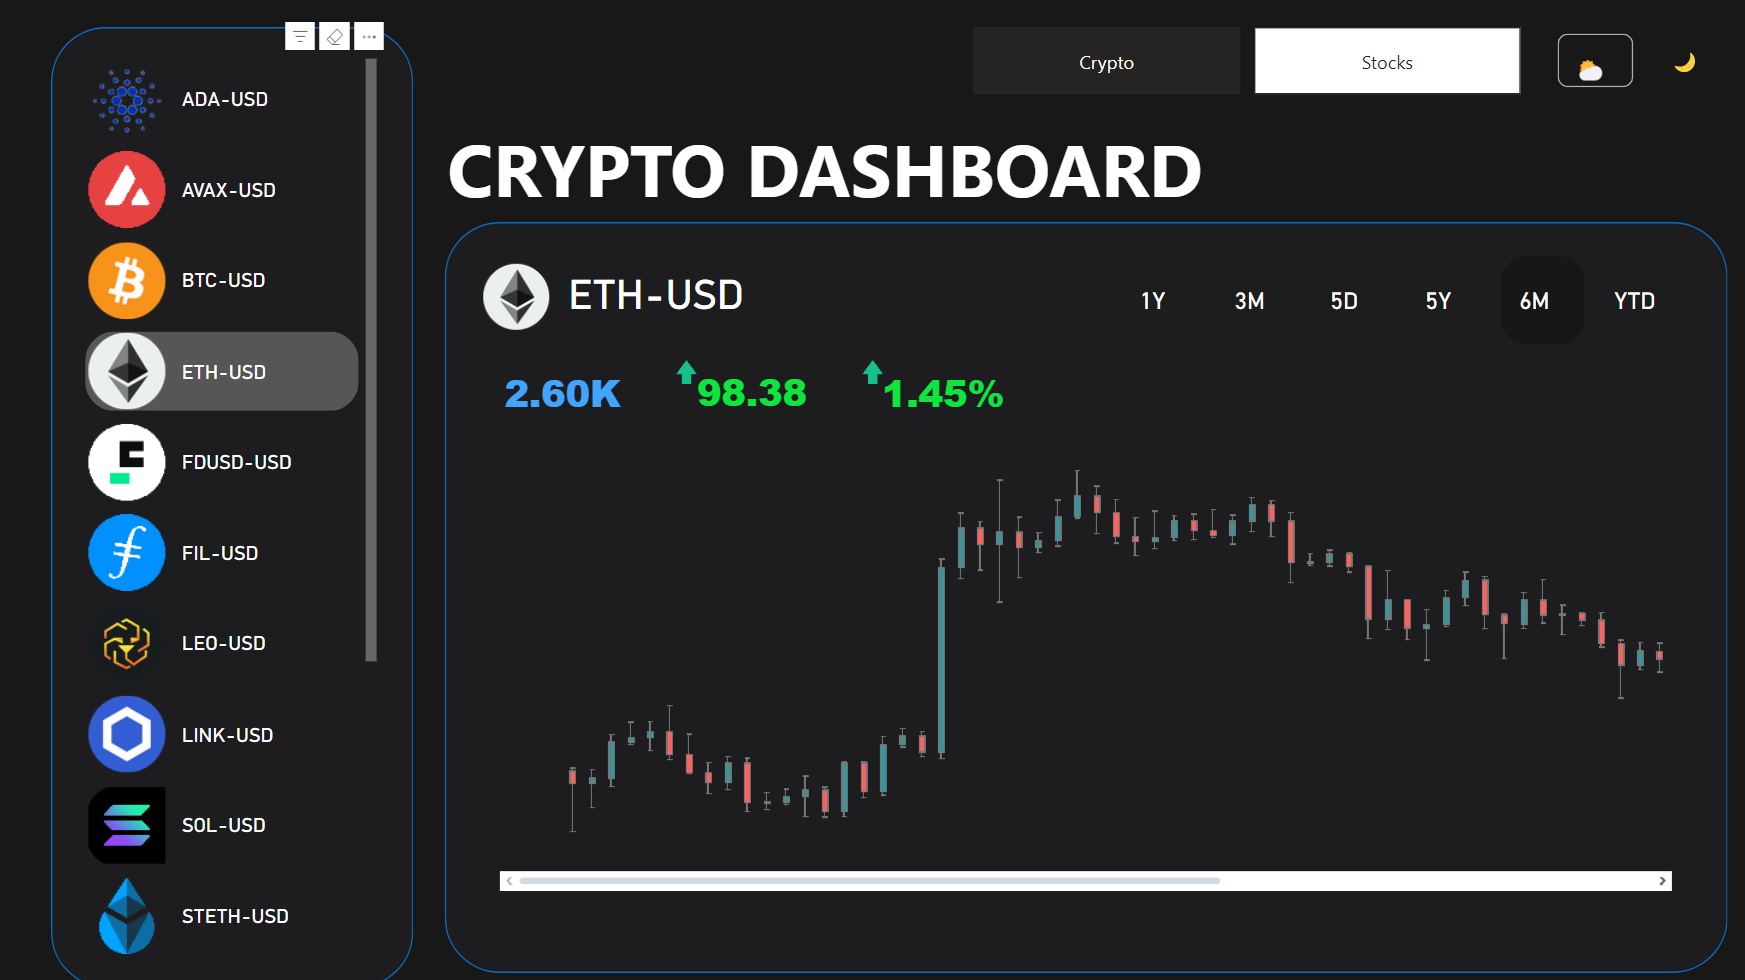

The dashboard page shown, as its layout file describes it:
{"tool":"powerbi","page":{"name":"Crypto","canvas":[1280,720],"ordinal":0},"visuals":[{"type":"shape","box":[0,0,1280.3,720.4],"z":0},{"type":"shape","box":[326.6,163.3,933.1,546.1],"z":1000},{"type":"shape","box":[39.8,22,263.5,698.5],"z":2000},{"type":"advancedSlicerVisual","fields":{"Values":["Color Codes.Label"]},"box":[1130.7,22,129,49.4],"z":3000},{"type":"PBI_CV_886A053E_9DFD_4EA0_A47D_CCAEB89AF969","fields":{"open":["Sum(Stocks Data.Open)"],"close":["Sum(Stocks Data.Close)"],"high":["Sum(Stocks Data.High)"],"low":["Sum(Stocks Data.Low)"],"Category":["Stocks Data.Date"]},"box":[352.7,310.1,879.6,347.2],"z":4000},{"type":"advancedSlicerVisual","fields":{"Values":["Stocks Data.Symbol"]},"box":[60.4,39.8,222.3,664.2],"z":5000},{"type":"advancedSlicerVisual","fields":{"Values":["Stocks Data.Date Category"]},"box":[813.7,183.9,418.5,74.1],"z":6000},{"type":"cardVisual","fields":{"Data":["Min(Stocks Data.LOGO)"]},"box":[326.6,163.3,109.8,113.9],"z":7000},{"type":"cardVisual","fields":{"Data":["Min(Stocks Data.Symbol)"]},"box":[399.3,172.9,240.1,79.6],"z":8000},{"type":"cardVisual","fields":{"Data":["Stocks Data.Open_value"]},"box":[352.7,238.8,153.7,89.2],"z":9000},{"type":"cardVisual","fields":{"Data":["Stocks Data.Open_Close_Diff"]},"box":[492.6,238.8,129,87.8],"z":10000},{"type":"cardVisual","fields":{"Data":["Stocks Data.Diff_%"]},"box":[627.1,240.1,166,87.8],"z":11000},{"type":"cardVisual","fields":{"Data":["Min(Stocks Data.LOGO)"]},"box":[467.9,238.8,76.8,71.4],"z":12000},{"type":"cardVisual","fields":{"Data":["Min(Stocks Data.LOGO)"]},"box":[603.8,238.8,76.8,71.4],"z":13000},{"type":"shape","box":[326.6,53.5,564,140],"z":14000},{"type":"pageNavigator","box":[710.8,22,399.3,49.4],"z":14001}]}

Visuals, with their boxes on the page's 1280x720 design canvas (x1, y1, x2, y2). These are canvas units, not pixel positions in the 1745x980 screenshot, which may show the page scaled, cropped or inside an application window:
shape: [x1=0, y1=0, x2=1280, y2=720]
shape: [x1=327, y1=163, x2=1260, y2=709]
shape: [x1=40, y1=22, x2=303, y2=720]
advancedSlicerVisual - Color Codes.Label: [x1=1131, y1=22, x2=1260, y2=71]
PBI_CV_886A053E_9DFD_4EA0_A47D_CCAEB89AF969 - Sum(Stocks Data.Open) x Sum(Stocks Data.Close): [x1=353, y1=310, x2=1232, y2=657]
advancedSlicerVisual - Stocks Data.Symbol: [x1=60, y1=40, x2=283, y2=704]
advancedSlicerVisual - Stocks Data.Date Category: [x1=814, y1=184, x2=1232, y2=258]
cardVisual - Min(Stocks Data.LOGO): [x1=327, y1=163, x2=436, y2=277]
cardVisual - Min(Stocks Data.Symbol): [x1=399, y1=173, x2=639, y2=252]
cardVisual - Stocks Data.Open_value: [x1=353, y1=239, x2=506, y2=328]
cardVisual - Stocks Data.Open_Close_Diff: [x1=493, y1=239, x2=622, y2=327]
cardVisual - Stocks Data.Diff_%: [x1=627, y1=240, x2=793, y2=328]
cardVisual - Min(Stocks Data.LOGO): [x1=468, y1=239, x2=545, y2=310]
cardVisual - Min(Stocks Data.LOGO): [x1=604, y1=239, x2=681, y2=310]
shape: [x1=327, y1=54, x2=891, y2=194]
pageNavigator: [x1=711, y1=22, x2=1110, y2=71]
